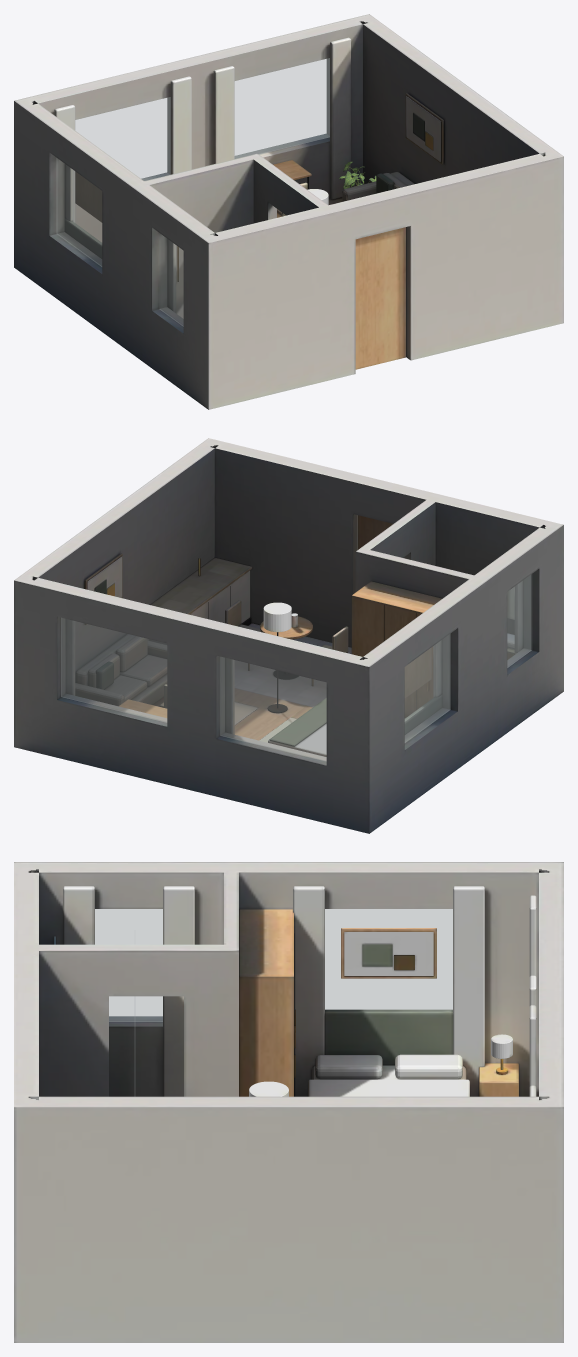
Rendered from estudio-201.glb.
3 views of the same model, one above another, from view 1: azimuth 30°, elevation 25°; view 2: azimuth 150°, elevation 25°; view 3: azimuth 270°, elevation 25° (orthographic). The views are drawn at different scales.
Parts seen in each view (by area): view 1: horneado, Cube.044; view 2: horneado, Cube.044; view 3: horneado, Cube.044.
Boxes of the visible parts, x1,y1,x2,y2 form: horneado: [14, 14, 563, 409]; Cube.044: [56, 58, 329, 326]; horneado: [14, 438, 563, 833]; Cube.044: [61, 574, 531, 761]; horneado: [14, 862, 563, 1342]; Cube.044: [95, 909, 452, 1021].
Bounding box in the file's own units: 5.8 × 2.6 × 5.5.
4 materials, 3 textured.
